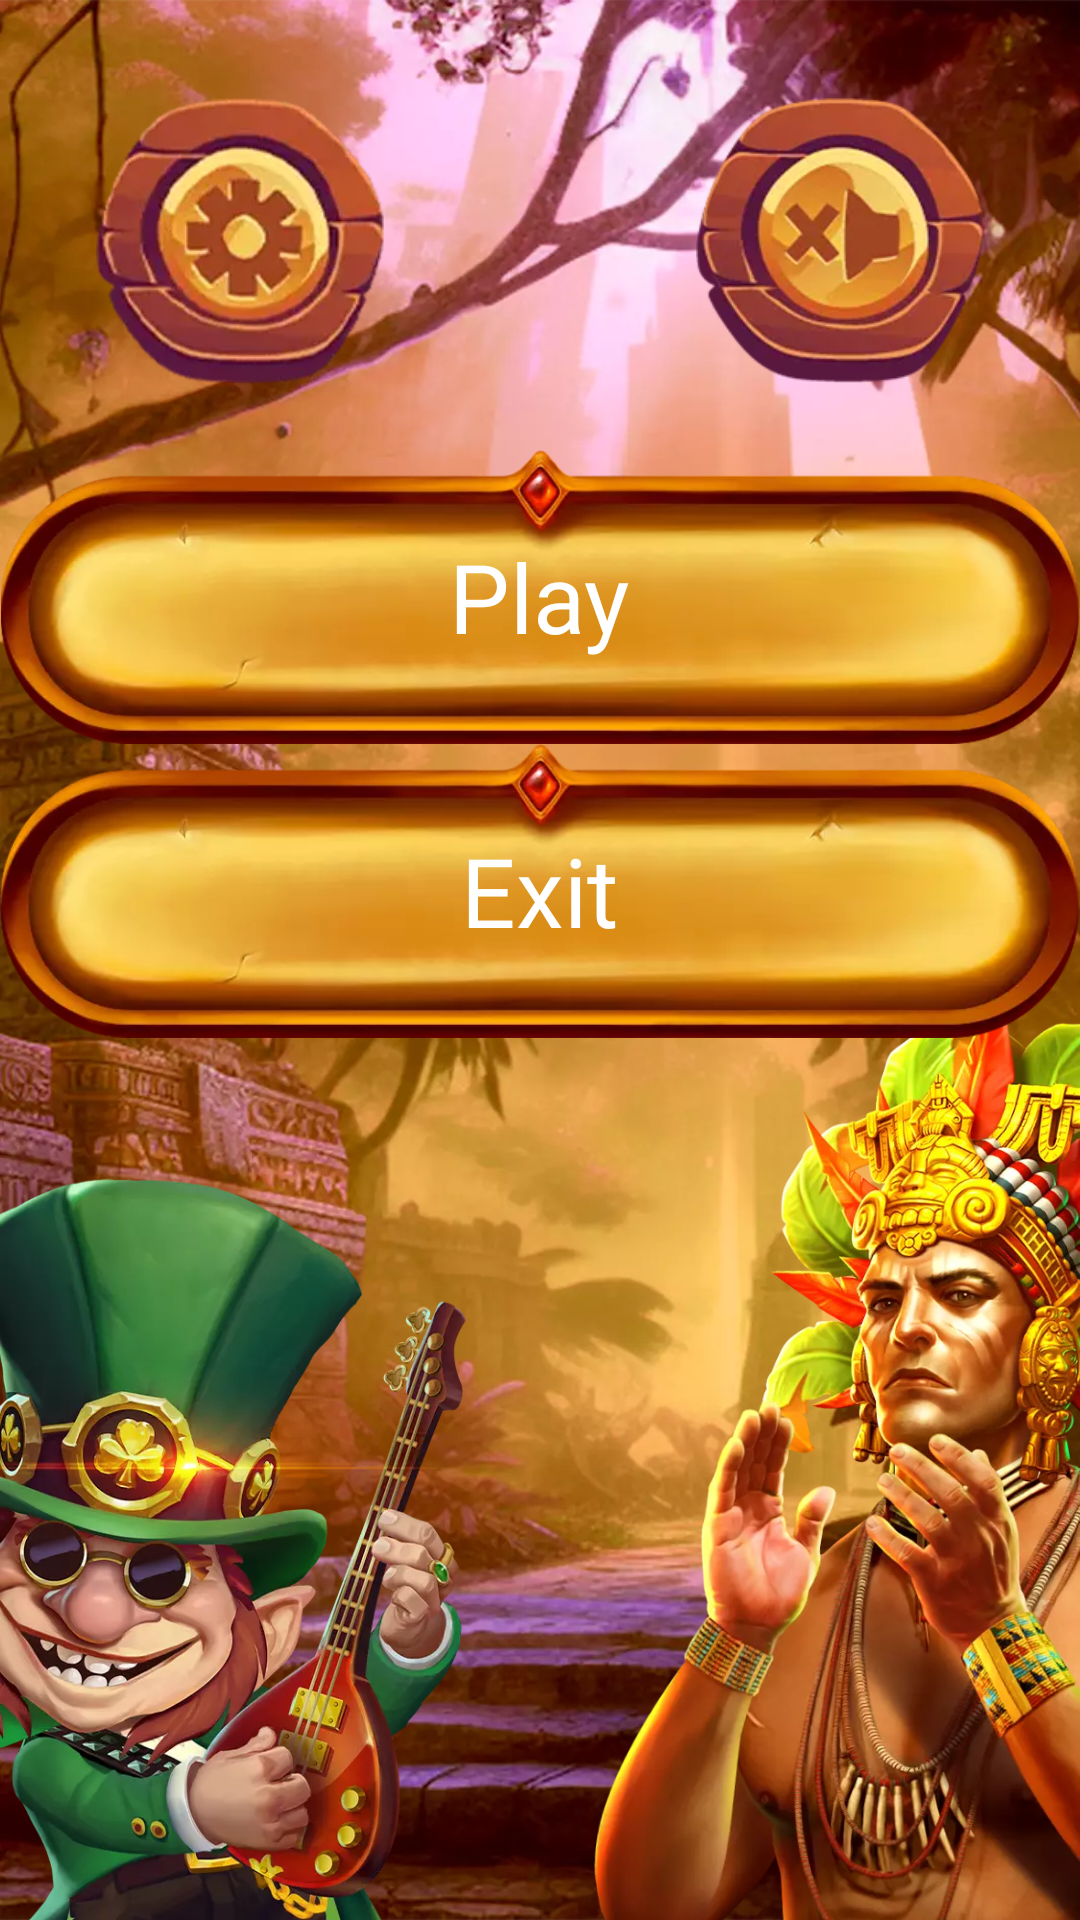

Icons on this 1080*1920 Android screen, each with the point to tap as (x,y):
settings: (240,240)
